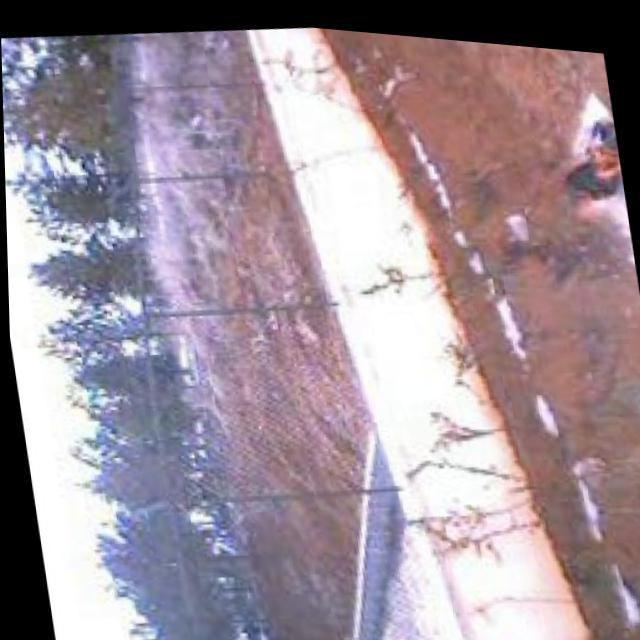fire: (558, 110, 626, 210)
